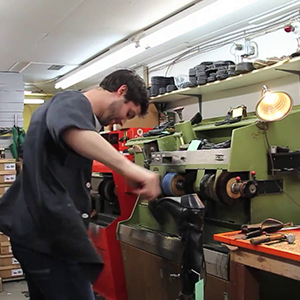person: (1, 68, 165, 300)
